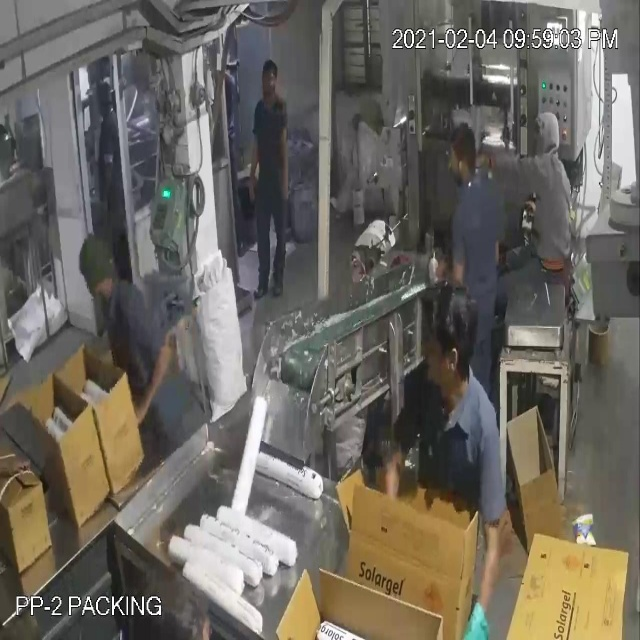Sin_guantes: (123, 336, 182, 435), (366, 435, 428, 523), (266, 115, 297, 209), (243, 118, 263, 202)
